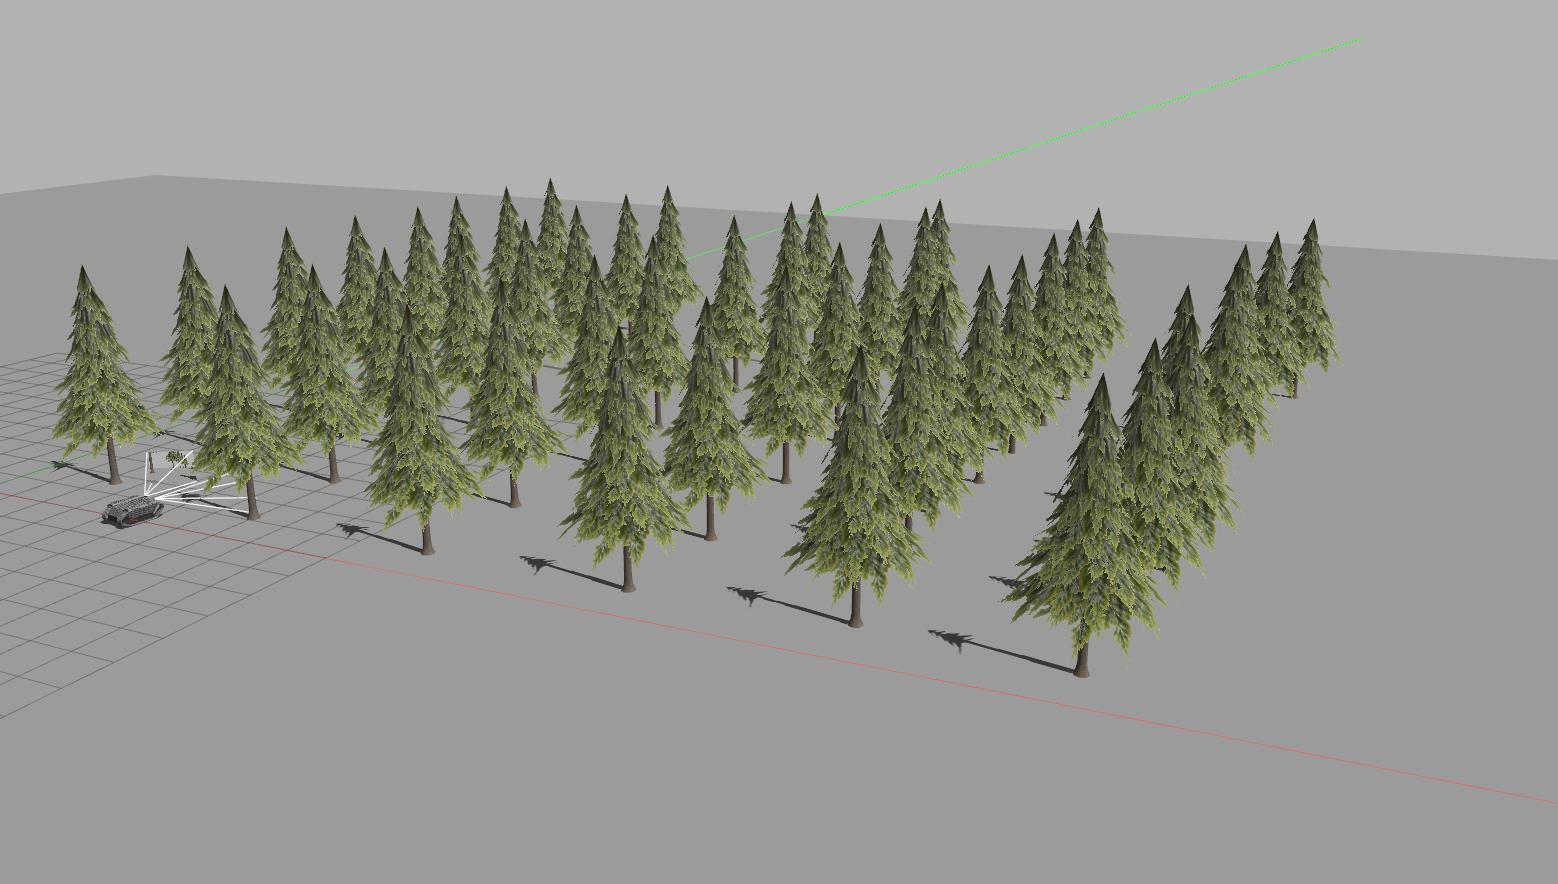tree_gazebo: (1007, 378, 1159, 675), (785, 347, 922, 625), (1122, 289, 1236, 584), (563, 329, 688, 593), (368, 307, 480, 555), (663, 301, 767, 540), (195, 289, 302, 520), (746, 207, 828, 483), (55, 268, 158, 483), (462, 304, 563, 506), (286, 268, 375, 484), (1162, 289, 1236, 545), (746, 283, 828, 483), (633, 185, 700, 425), (1205, 246, 1272, 454), (554, 259, 617, 436), (962, 268, 1023, 448), (1002, 259, 1056, 452), (1065, 210, 1126, 382), (436, 201, 490, 393), (162, 246, 216, 418), (712, 219, 767, 385), (511, 223, 563, 394), (809, 246, 861, 412), (1035, 234, 1081, 422), (1290, 219, 1339, 394), (360, 249, 404, 409), (262, 228, 307, 385), (858, 225, 901, 385), (1256, 234, 1299, 393), (1086, 210, 1126, 360), (338, 216, 378, 357), (554, 207, 594, 344), (404, 210, 444, 347), (606, 198, 645, 318), (804, 195, 834, 321)
